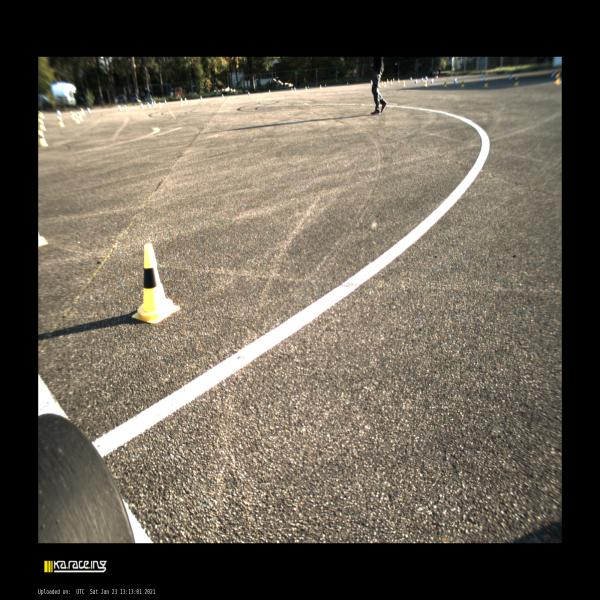blue_cone: (550, 71, 555, 80), (56, 109, 62, 116), (480, 76, 484, 83), (508, 75, 512, 82), (87, 107, 91, 113), (454, 77, 457, 84), (140, 103, 144, 108), (118, 104, 121, 110), (425, 76, 428, 81), (148, 102, 150, 108), (154, 100, 156, 106), (415, 78, 417, 84), (165, 100, 167, 105), (152, 101, 154, 106), (431, 78, 433, 83), (422, 77, 424, 82), (392, 78, 395, 81), (200, 96, 202, 100), (222, 94, 224, 98), (294, 86, 296, 90), (410, 76, 412, 80), (248, 92, 249, 95), (308, 85, 309, 88), (325, 84, 326, 87), (347, 82, 348, 85)
yellow_cone: (130, 242, 180, 325), (38, 130, 48, 147), (39, 120, 46, 129), (74, 114, 80, 124), (555, 74, 560, 85), (58, 117, 64, 126), (514, 77, 519, 86), (70, 111, 75, 120), (80, 108, 86, 115), (484, 79, 488, 87), (78, 113, 82, 121), (444, 80, 448, 87), (424, 80, 428, 87), (180, 98, 184, 105), (461, 80, 464, 88), (125, 104, 128, 111), (159, 102, 162, 108), (185, 98, 188, 104), (383, 81, 386, 87), (403, 80, 405, 86), (291, 87, 293, 92), (390, 79, 392, 84), (387, 78, 389, 83), (398, 78, 400, 83), (268, 90, 270, 94), (305, 86, 307, 90), (320, 85, 322, 89), (370, 80, 372, 84), (381, 81, 383, 85)
